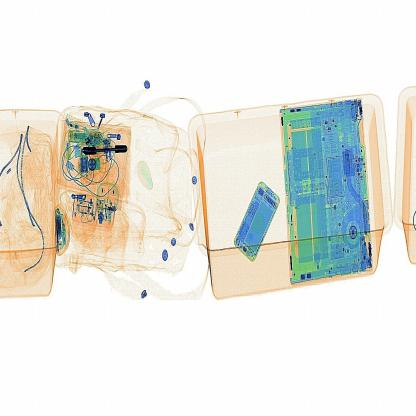knife: (80, 134, 142, 172)
